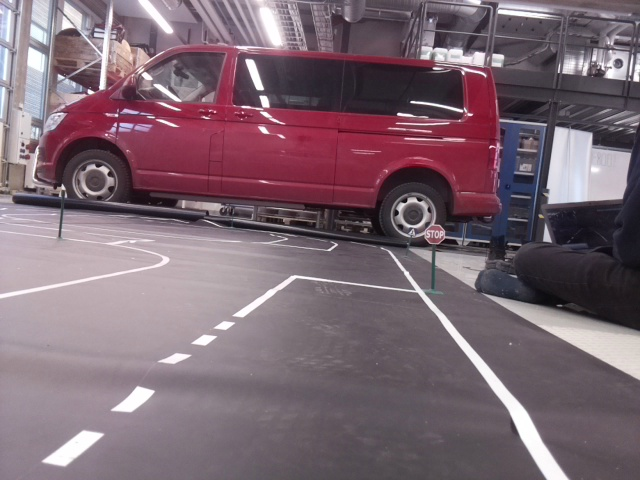Stop: (425, 220, 445, 243)
